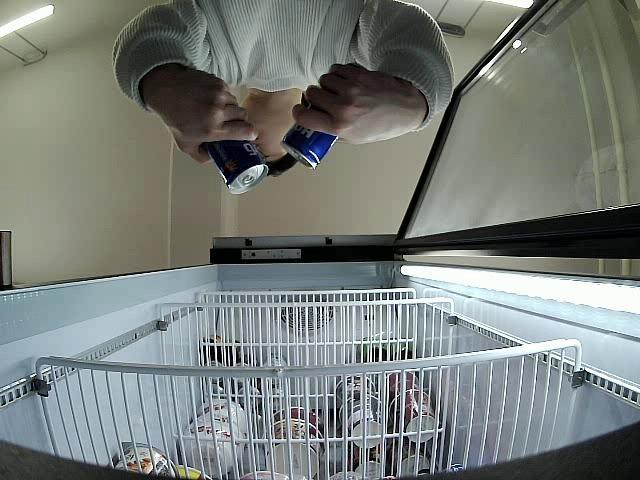16_hot6: (200, 137, 270, 198), (279, 118, 340, 170)
